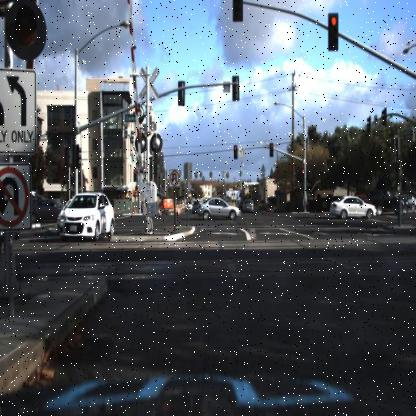car: (61, 191, 115, 244), (326, 192, 378, 223), (23, 196, 71, 229), (194, 194, 242, 219), (371, 188, 409, 216), (195, 197, 242, 218), (237, 197, 261, 213), (188, 195, 206, 216), (238, 196, 254, 218), (192, 198, 203, 214)
trafficLight: (8, 1, 44, 57), (232, 1, 244, 22)
trafficLight-Red: (327, 12, 339, 51), (268, 138, 276, 160), (300, 164, 306, 185), (232, 141, 238, 161), (270, 140, 274, 156)
